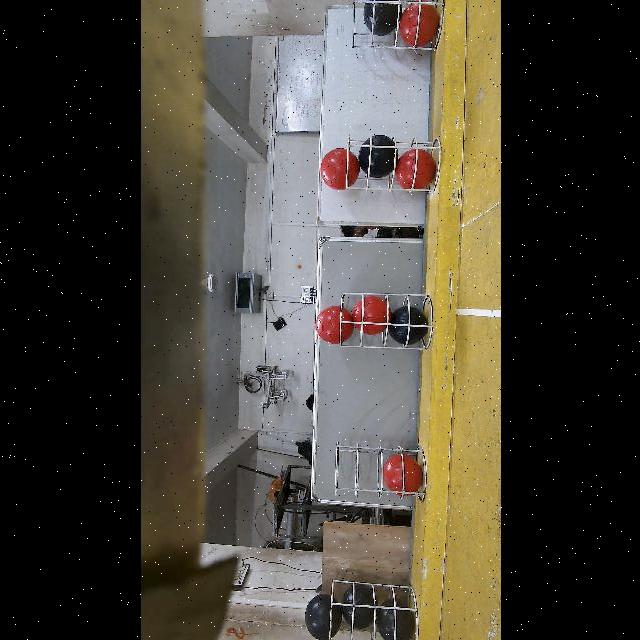P: (303, 594, 341, 640), (357, 137, 397, 178), (342, 587, 379, 628), (377, 598, 412, 640), (389, 306, 425, 345), (363, 0, 402, 36)
R: (396, 149, 435, 189), (399, 5, 438, 45), (383, 456, 420, 498), (315, 306, 353, 344), (353, 296, 390, 335), (320, 150, 355, 188)
S: (331, 439, 431, 503), (342, 136, 442, 192), (326, 576, 418, 636), (335, 294, 431, 351), (343, 1, 443, 52)
